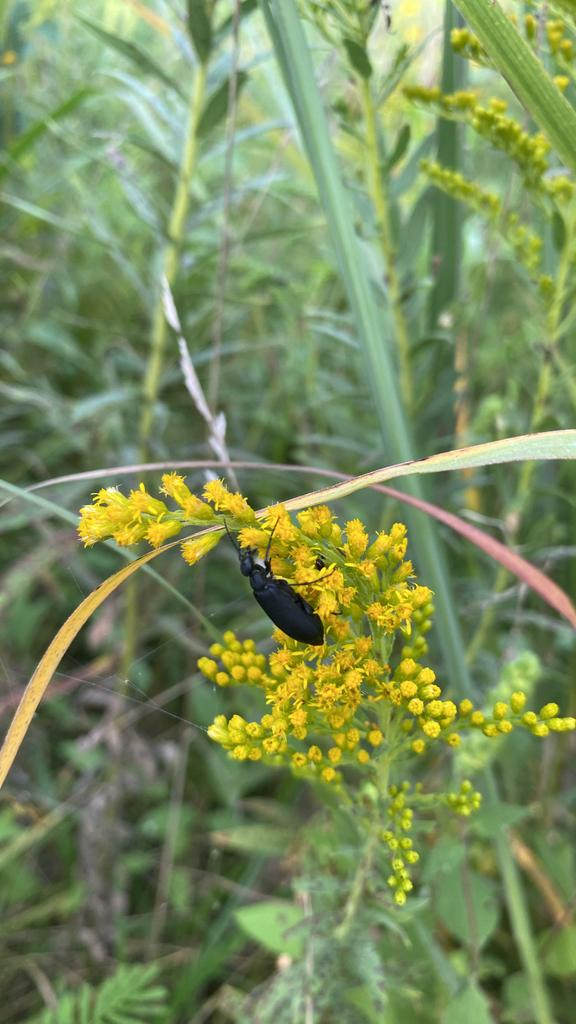blister_beetle: (202, 498, 352, 660)
